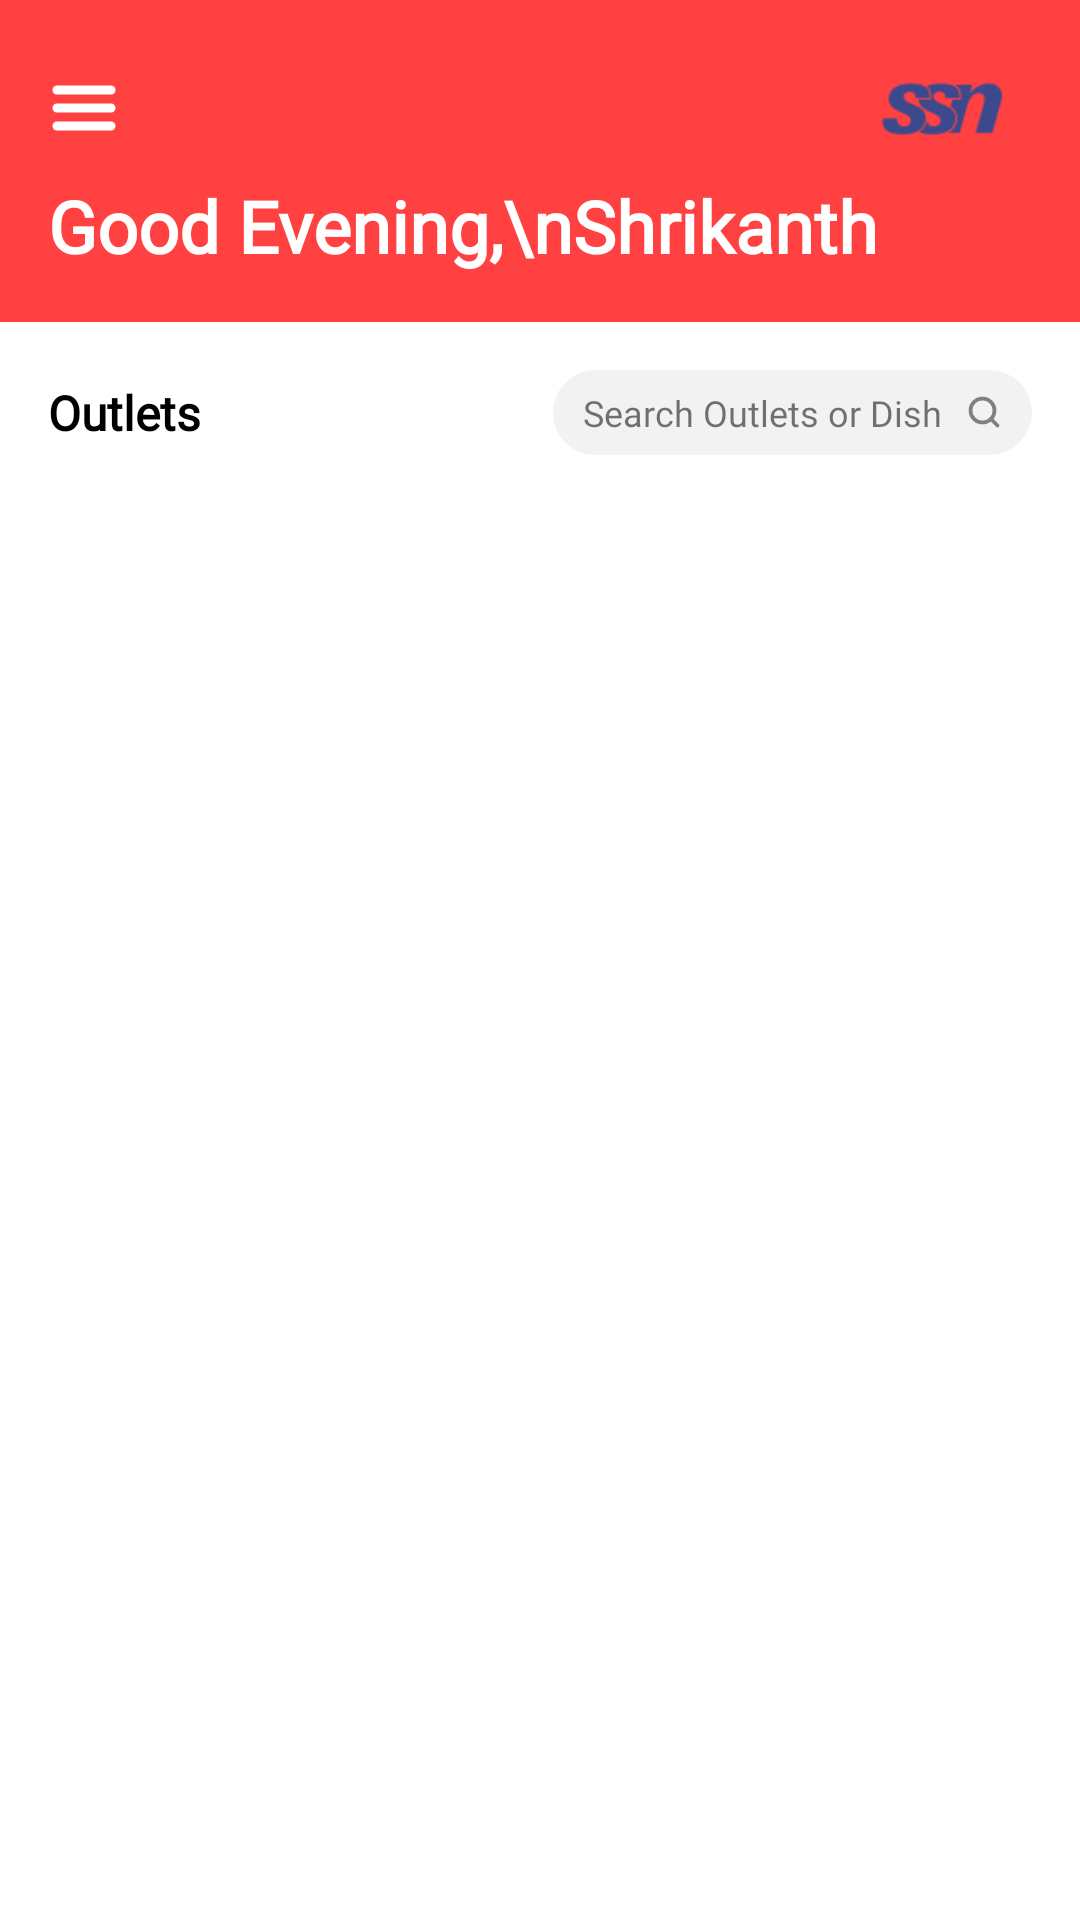

Screen size 1080×1920. Icon name, then its box in pixels as {"x1": x1, "y1": y1, "x2": x2, "y2": y2}:
menu: {"x1": 52, "y1": 85, "x2": 116, "y2": 131}
